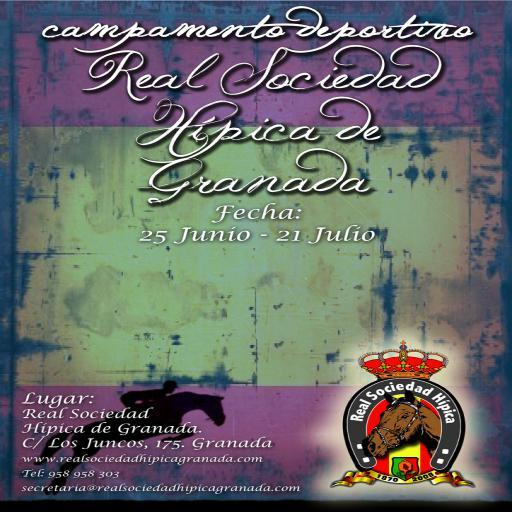Horse: (30, 388, 227, 491), (362, 390, 447, 460)
